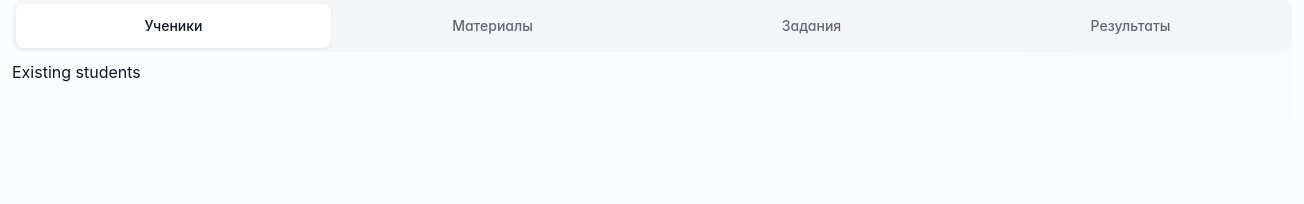
Test: staff LMS interaction › opens prepared group learning Tabs inside the existing modal content without a per-group creation step
Expected: the text "Existing students" is shown, [12, 62, 141, 82]
Click the tab "Материалы". click: (492, 26)
box: [335, 4, 650, 48]
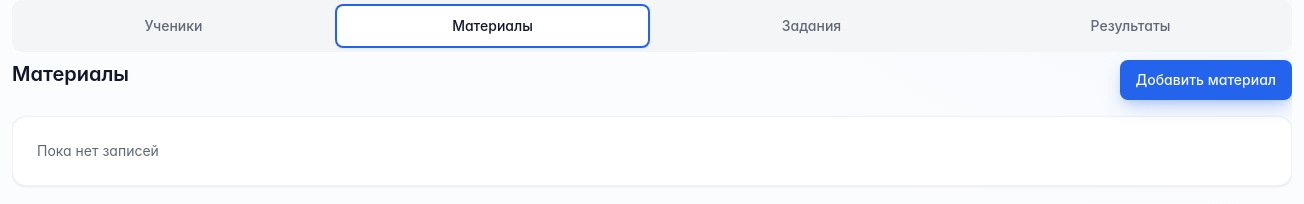
Now the button "Добавить материал" is shown, box [1120, 60, 1292, 100]
Click the tab "Ученики". click: (174, 26)
box: [16, 4, 331, 48]
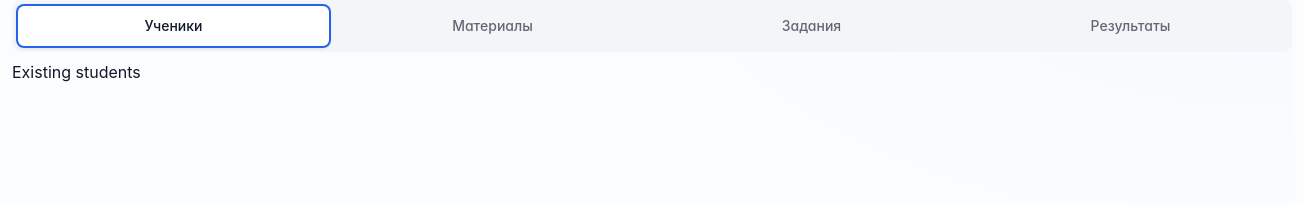
Now the text "Existing students" is shown, box [12, 62, 141, 82]
